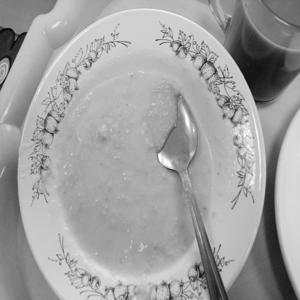porridge: (39, 54, 231, 284)
